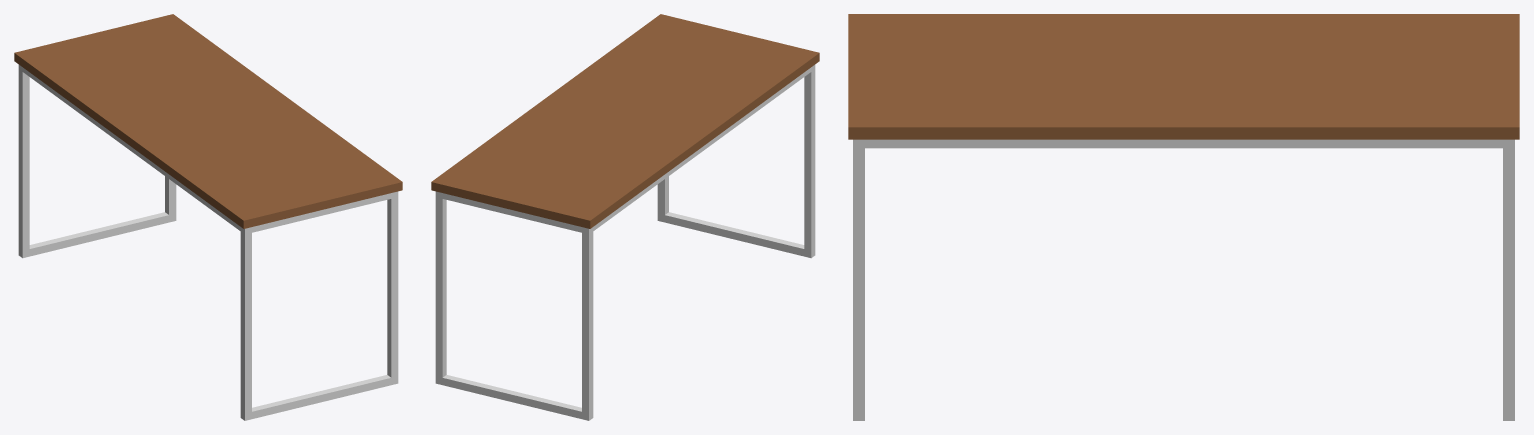
Rendered from Desk.fbx.
3 views of the same model, side by side, from view 1: azimuth 30°, elevation 25°; view 2: azimuth 150°, elevation 25°; view 3: azimuth 270°, elevation 25° (orthographic). The views are drawn at different scales.
Visible parts, largest first — view 1: Desk; view 2: Desk; view 3: Desk.
Boxes of the visible parts, x1,y1,x2,y2 form: Desk: [14, 14, 402, 420]; Desk: [431, 14, 819, 420]; Desk: [848, 14, 1519, 420].
Size of the model in its own units: 200 by 243 by 500.
